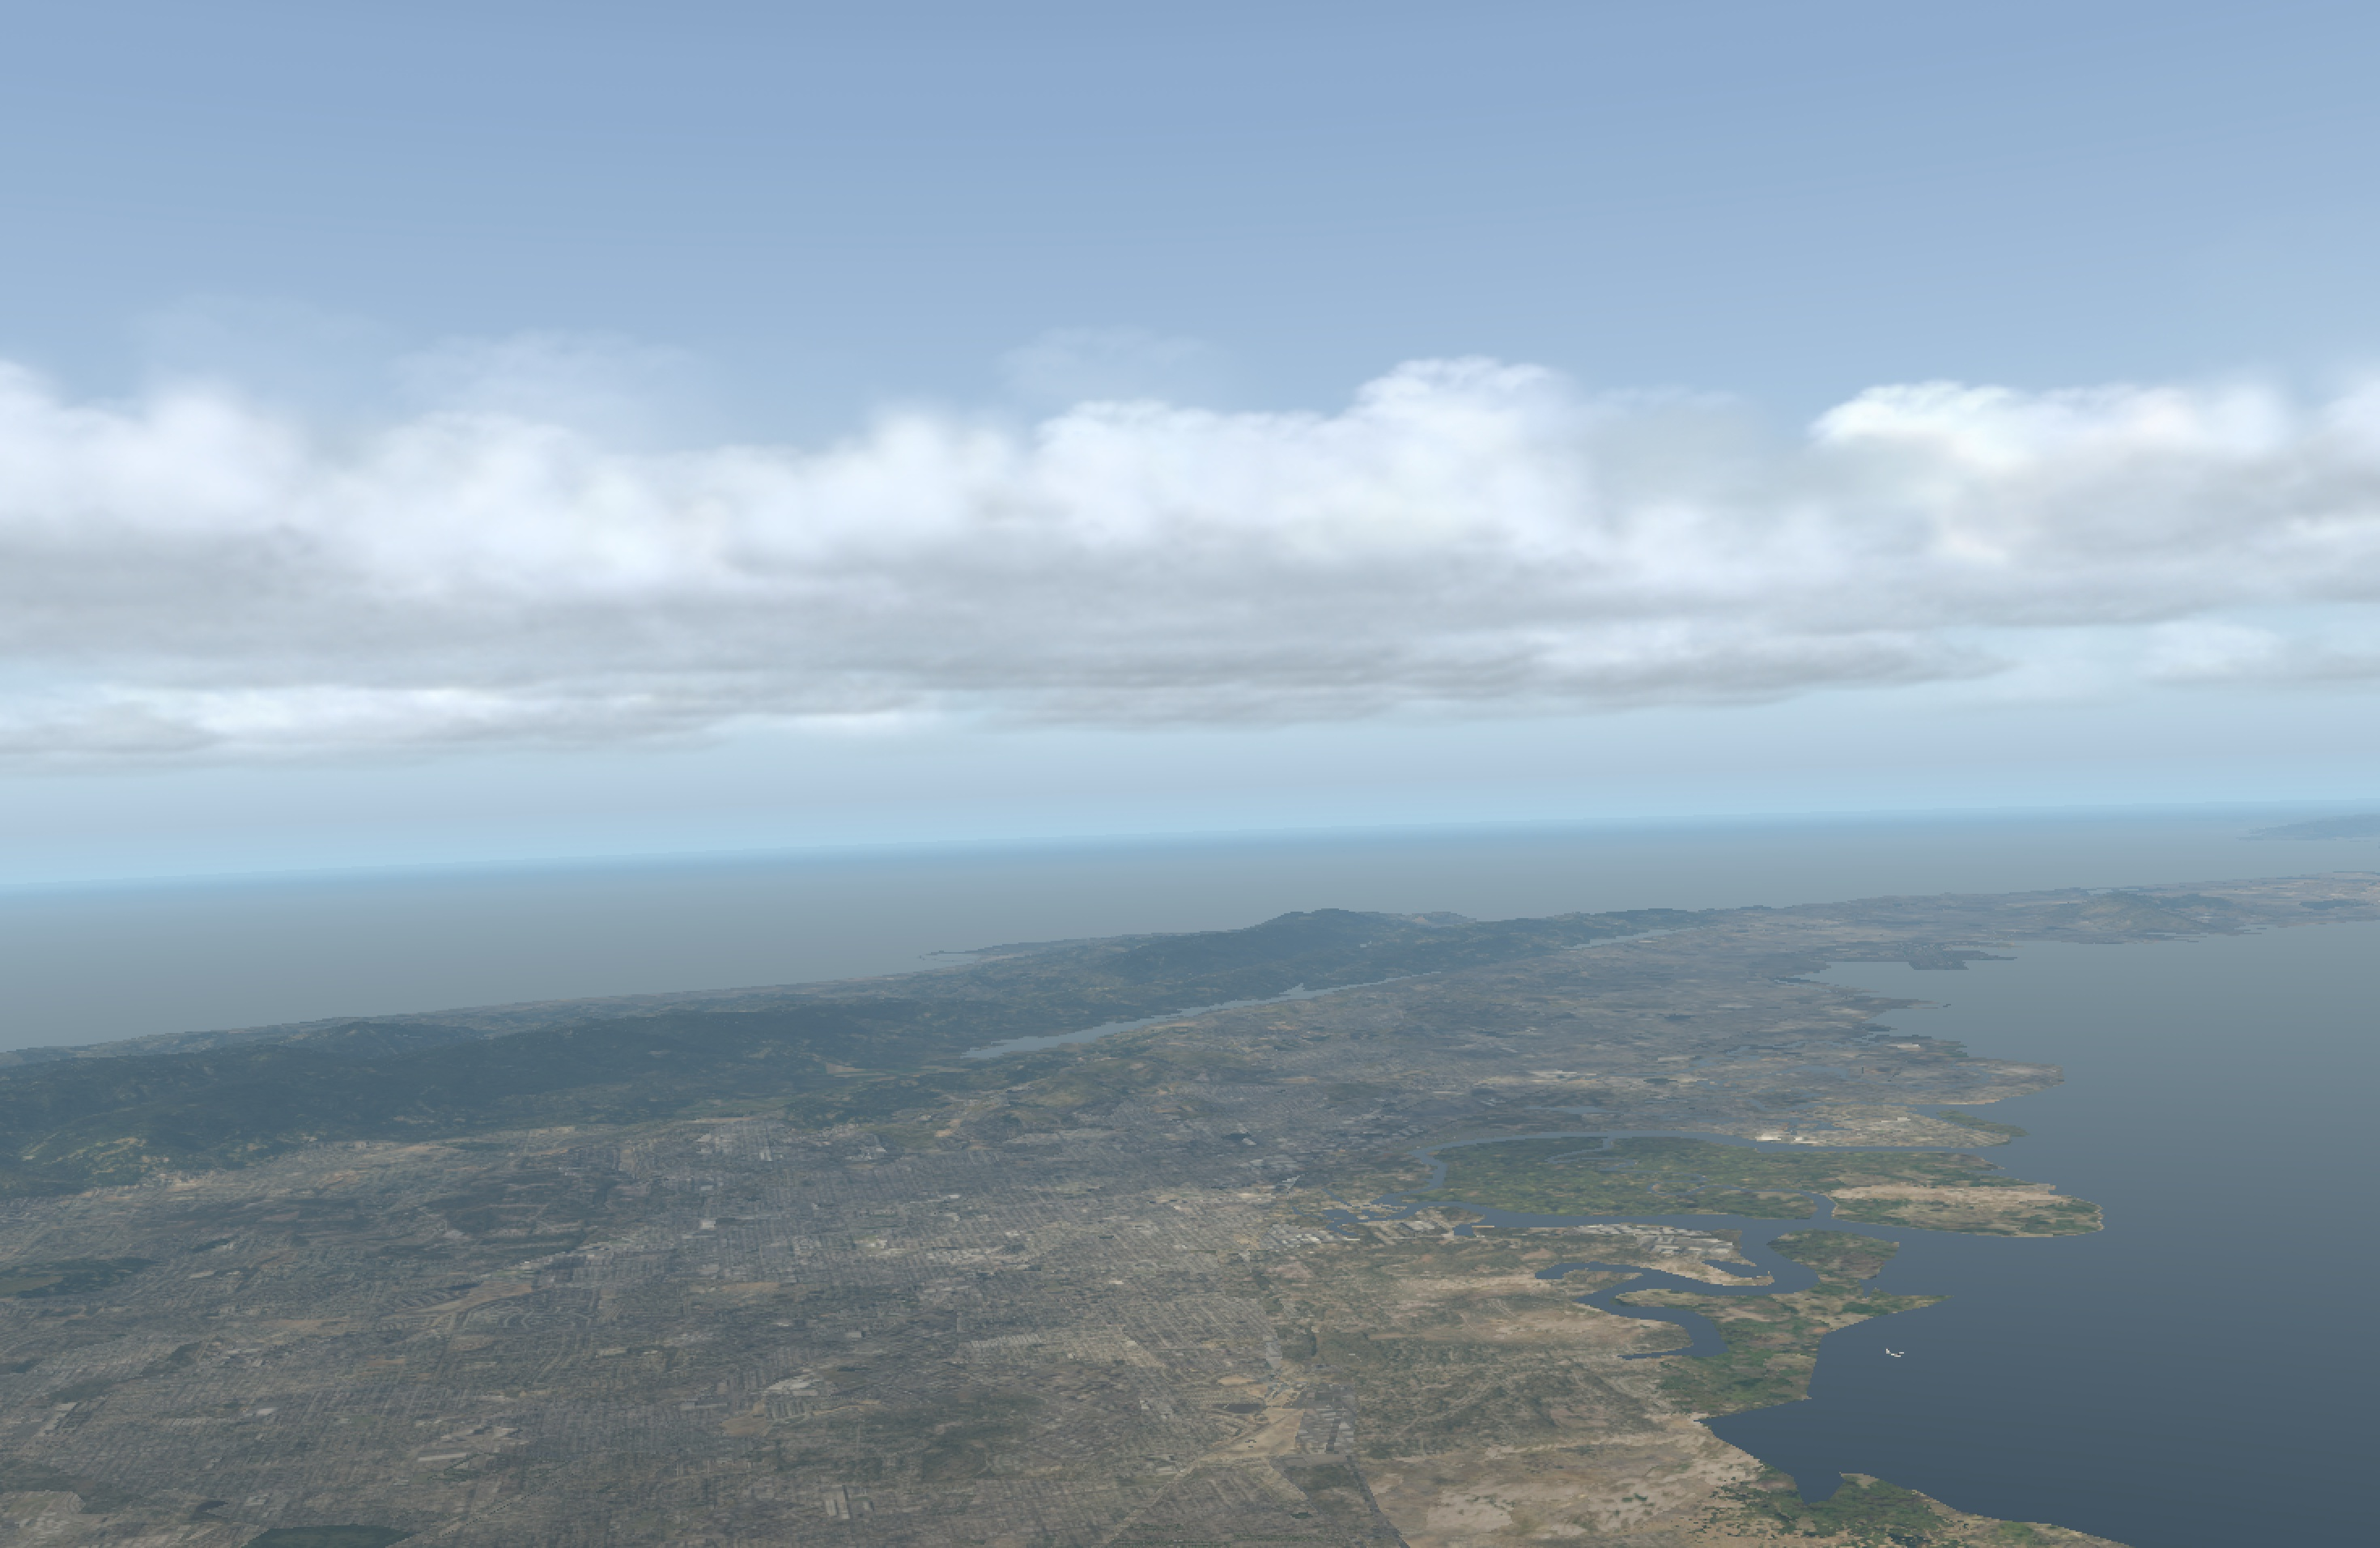aircraft: (1889, 1352, 1905, 1359)
